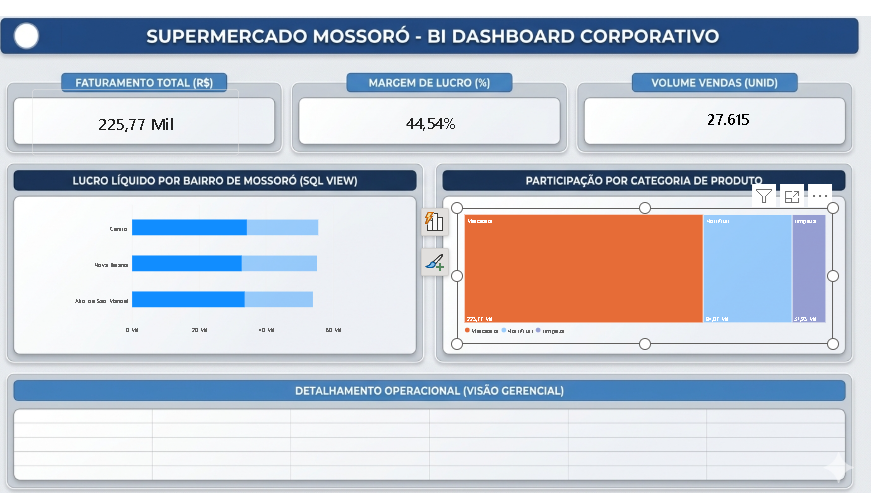

This screenshot's page, from the dashboard's own definition file:
{"tool":"powerbi","page":{"name":"Página 1","canvas":[1920,1080],"ordinal":0},"visuals":[{"type":"cardVisual","fields":{"Data":["Sum(vw_dashboard_vendas.faturamento_total)"]},"box":[101.5,183.6,447.1,144.7],"z":0},{"type":"cardVisual","fields":{"Data":["vw_dashboard_vendas.Margem Lucro %"]},"box":[693.5,158,540.1,195.8],"z":1},{"type":"cardVisual","fields":{"Data":["vw_dashboard_vendas.Total Unidades Vendidas"]},"box":[1292.6,184,627.4,127.4],"z":2},{"type":"clusteredBarChart","fields":{"Category":["vw_dashboard_vendas.bairro"],"Y":["Sum(vw_dashboard_vendas.lucro_liquido)"]},"box":[160.8,412.5,627.9,321.5],"z":4},{"type":"treemap","fields":{"Group":["vw_dashboard_vendas.categoria"],"Values":["Sum(vw_dashboard_vendas.faturamento_total)"]},"box":[1019.1,439.8,812.9,294.2],"z":5}]}

Visuals, with their boxes in screenshot pixels (x1, y1, x2, y2), scaled from the page's 1920x1080 canvas onto the 894x493 screenshot:
cardVisual - Sum(vw_dashboard_vendas.faturamento_total): bbox=[47, 84, 255, 150]
cardVisual - vw_dashboard_vendas.Margem Lucro %: bbox=[323, 72, 574, 162]
cardVisual - vw_dashboard_vendas.Total Unidades Vendidas: bbox=[602, 84, 893, 142]
clusteredBarChart - vw_dashboard_vendas.bairro x Sum(vw_dashboard_vendas.lucro_liquido): bbox=[75, 188, 367, 335]
treemap - vw_dashboard_vendas.categoria x Sum(vw_dashboard_vendas.faturamento_total): bbox=[475, 201, 853, 335]
